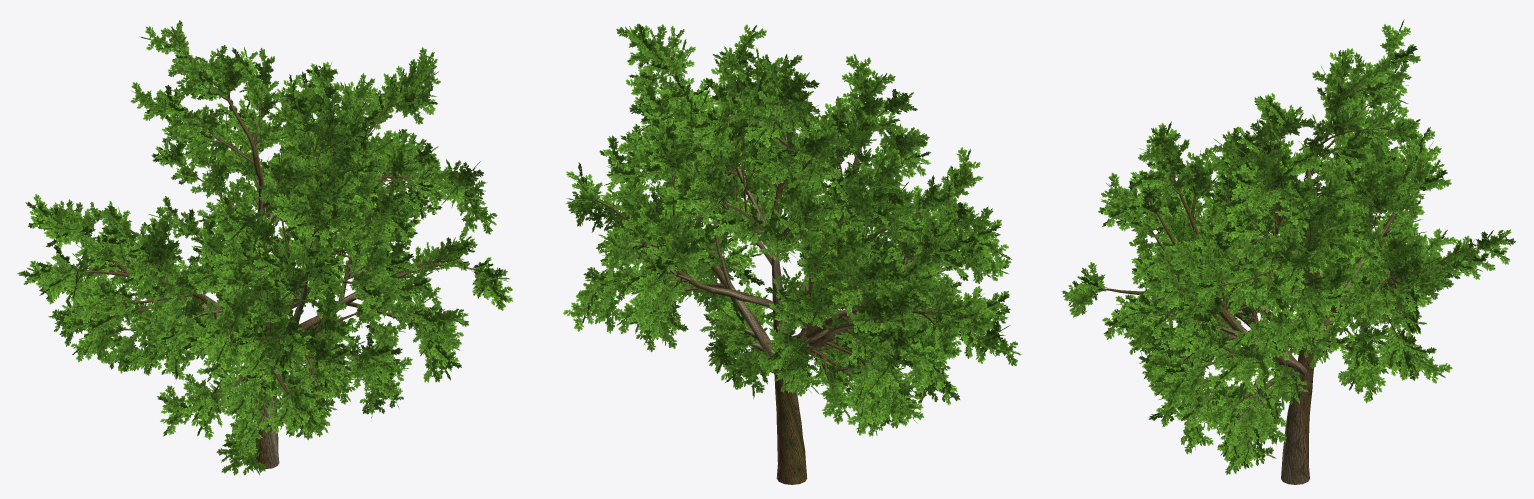
File: shade-a.glb
3 renders of one model, left to right at view 1: azimuth 30°, elevation 25°; view 2: azimuth 150°, elevation 25°; view 3: azimuth 270°, elevation 25°, orthographic. The views are drawn at different scales.
Parts seen in each view (by area): view 1: leaves, bark; view 2: leaves, bark; view 3: leaves, bark.
Boxes of the visible parts, x1,y1,x2,y2 form: leaves: (17,20,513,475); bark: (71,48,480,468); leaves: (563,23,1021,436); bark: (594,59,981,484); leaves: (1062,19,1516,474); bark: (1084,64,1477,484).
Size of the model in its own units: 1.02 by 1 by 0.9655.
2 materials, 2 textured.
